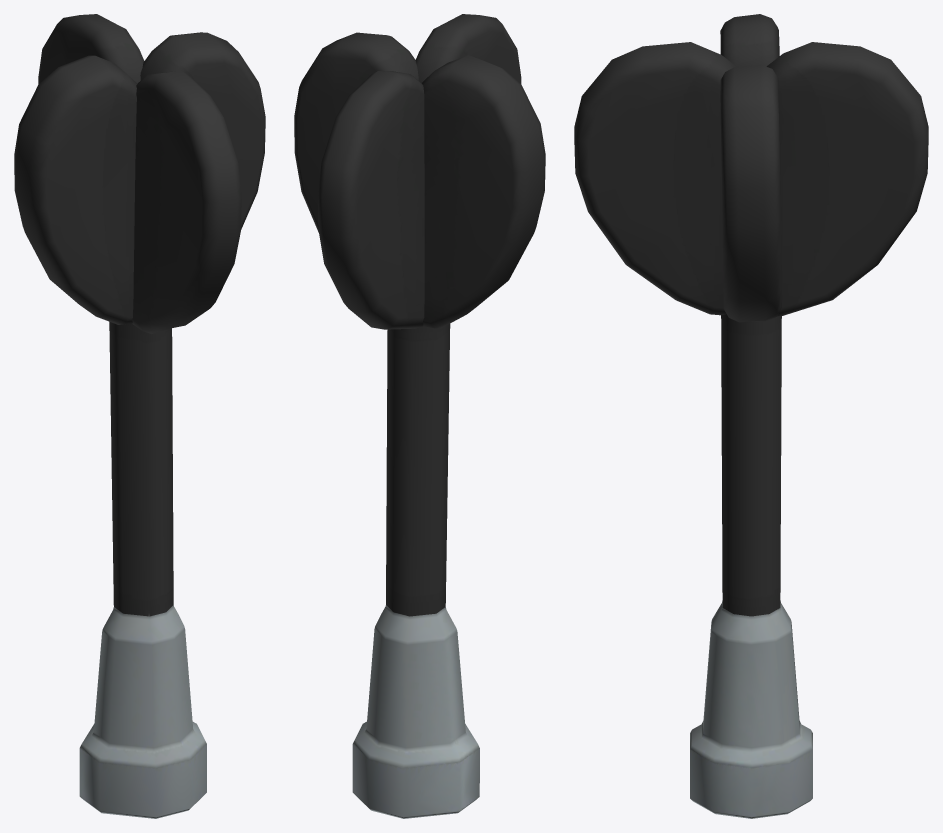
Rendered from 0-dartarrow_black.fbx.
3 views of the same model, side by side, from view 1: azimuth 30°, elevation 25°; view 2: azimuth 150°, elevation 25°; view 3: azimuth 270°, elevation 25° (orthographic).
Parts seen in each view (by area): view 1: 0-dartarrow_black; view 2: 0-dartarrow_black; view 3: 0-dartarrow_black.
Boxes of the visible parts, left/top/right/bottom form: 0-dartarrow_black: left=14, top=14, right=265, bottom=818; 0-dartarrow_black: left=294, top=14, right=545, bottom=818; 0-dartarrow_black: left=574, top=14, right=928, bottom=818.
Bounding box in the file's own units: 32.23 × 97.97 × 42.11.
